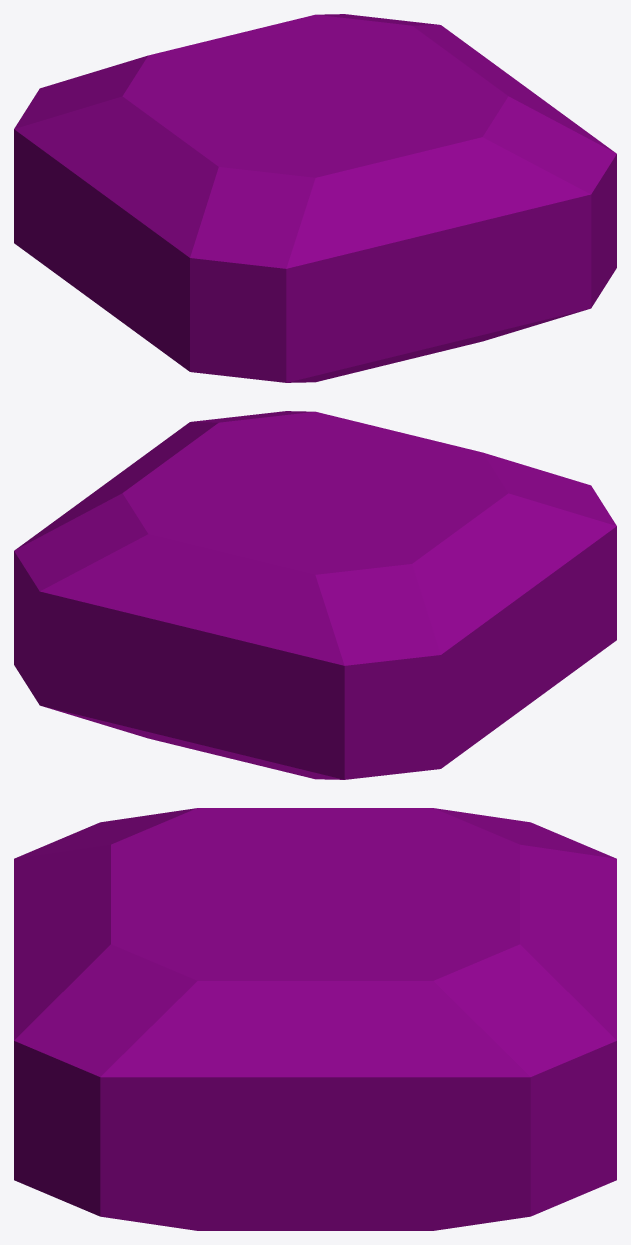
3 renders of one model, top to bottom at view 1: azimuth 30°, elevation 25°; view 2: azimuth 150°, elevation 25°; view 3: azimuth 270°, elevation 25°, orthographic. The views are drawn at different scales.
Visible parts, largest first — view 1: Cube.034; view 2: Cube.034; view 3: Cube.034.
Part boxes in pixels (x1=…): Cube.034: x1=14, y1=14, x2=616, y2=382; Cube.034: x1=14, y1=411, x2=616, y2=779; Cube.034: x1=14, y1=808, x2=616, y2=1230.
Size of the model in its own units: 0.5 by 0.2288 by 0.5.
1 material, 1 textured.
